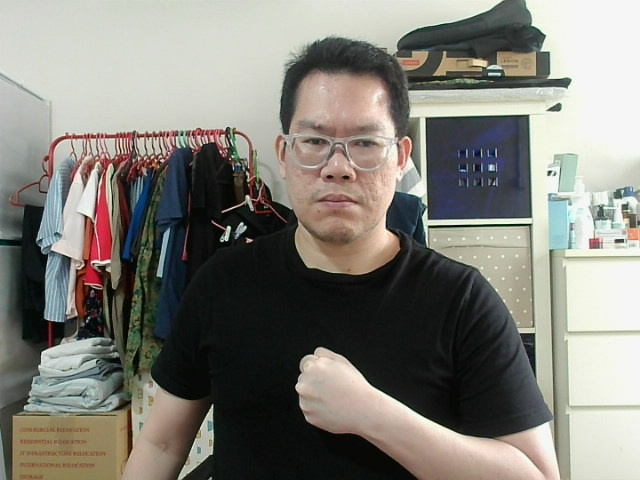sorry: (301, 352, 360, 419)
